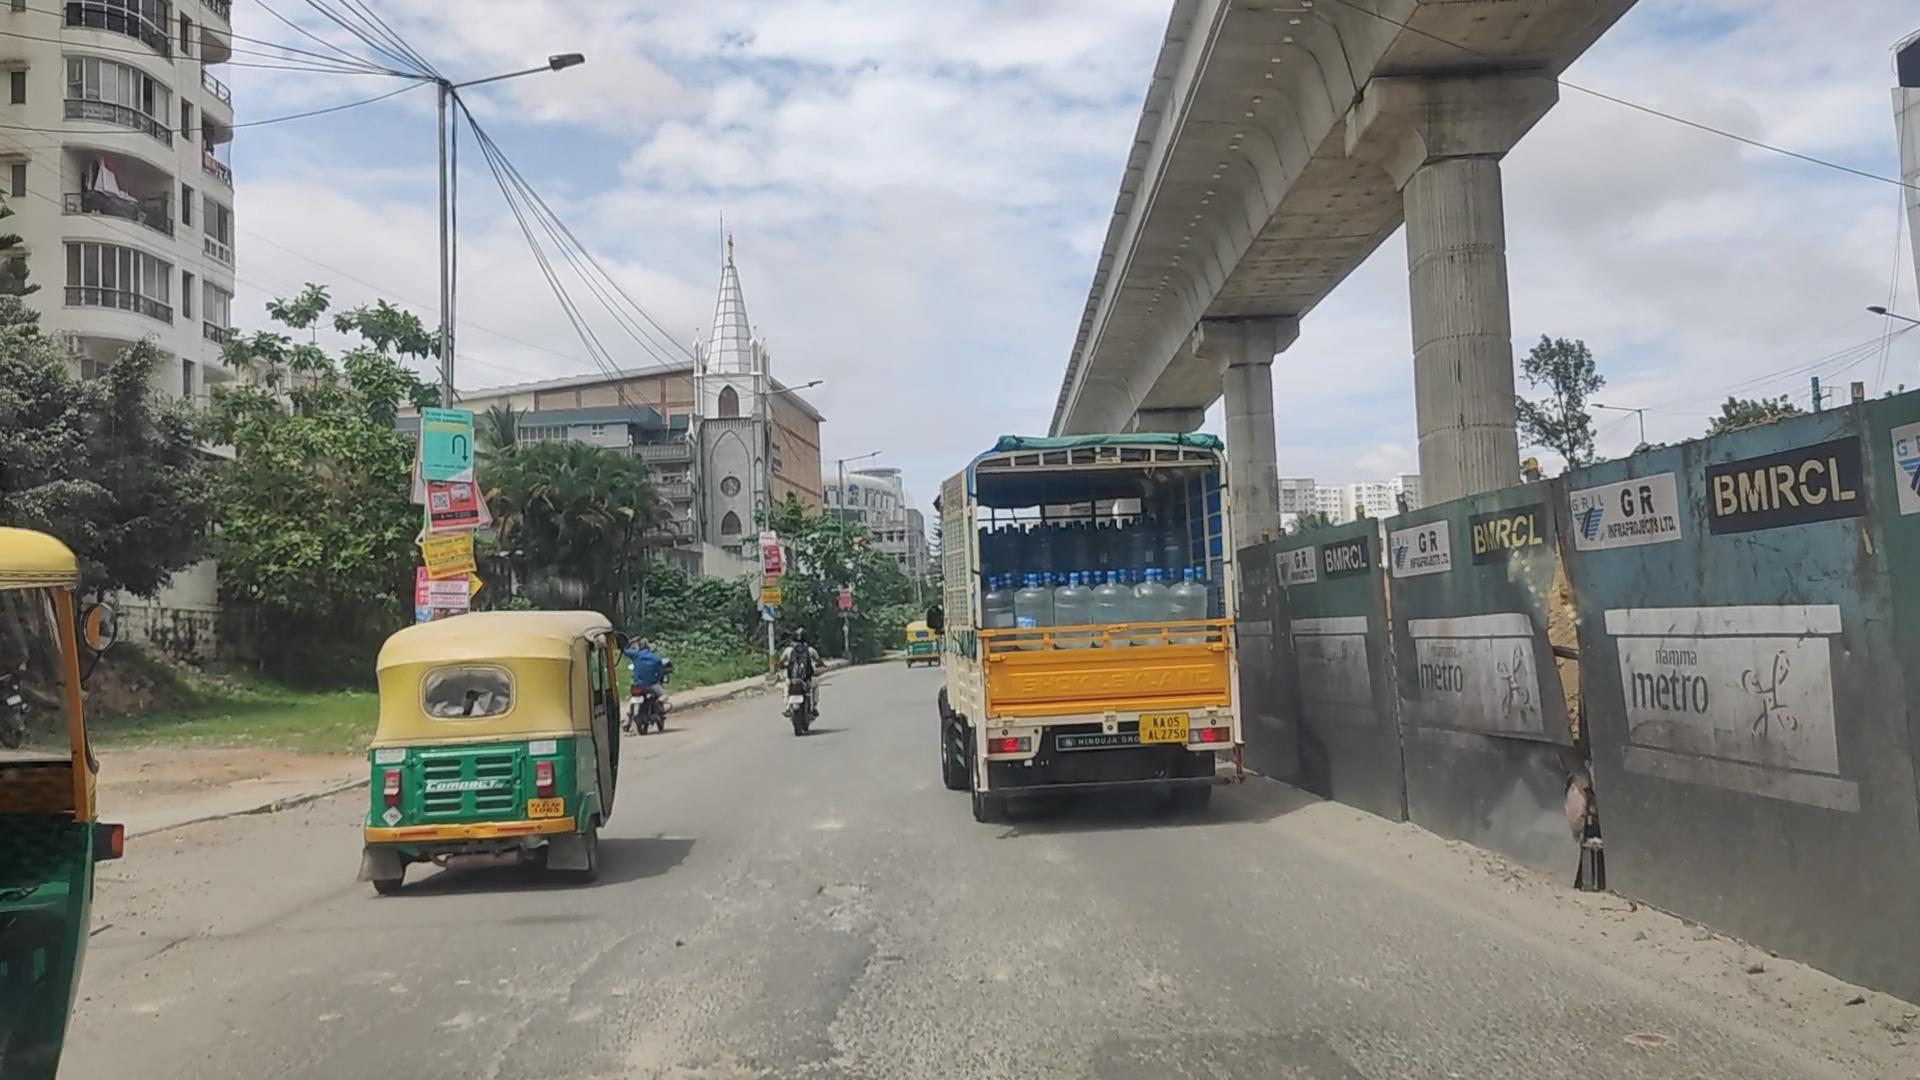HMV: (934, 430, 1246, 835)
LMV: (373, 608, 629, 897), (773, 628, 815, 742), (624, 637, 665, 741)
RoadDamages: (522, 959, 858, 1080), (1068, 951, 1361, 1080), (793, 858, 894, 934)
